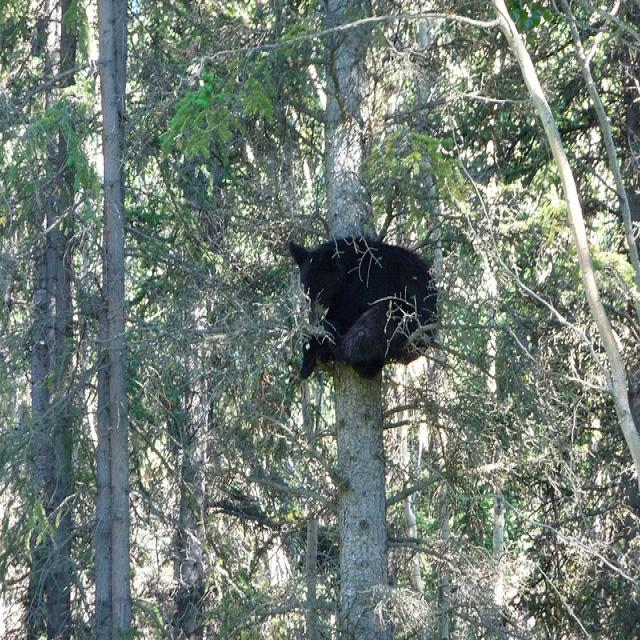Bear: (287, 234, 447, 380)
